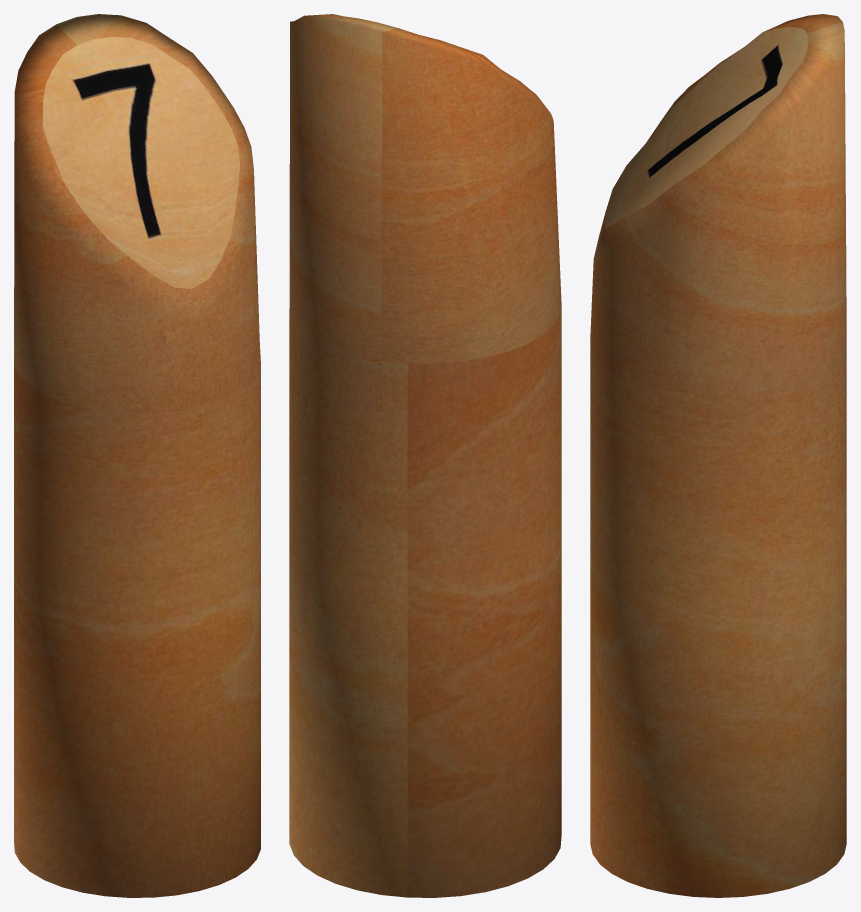
File: molkky7.glb
3 renders of one model, left to right at view 1: azimuth 30°, elevation 25°; view 2: azimuth 150°, elevation 25°; view 3: azimuth 270°, elevation 25°, orthographic. The views are drawn at different scales.
Parts seen in each view (by area): view 1: Cylinder.003; view 2: Cylinder.003; view 3: Cylinder.003.
Boxes of the visible parts, box(x1,y1,x2,y2) form: Cylinder.003: box(14, 14, 260, 897); Cylinder.003: box(289, 14, 561, 897); Cylinder.003: box(590, 14, 846, 897).
Bounding box in the file's own units: 0.4975 × 1.74 × 0.4975.
1 material, 1 textured.
